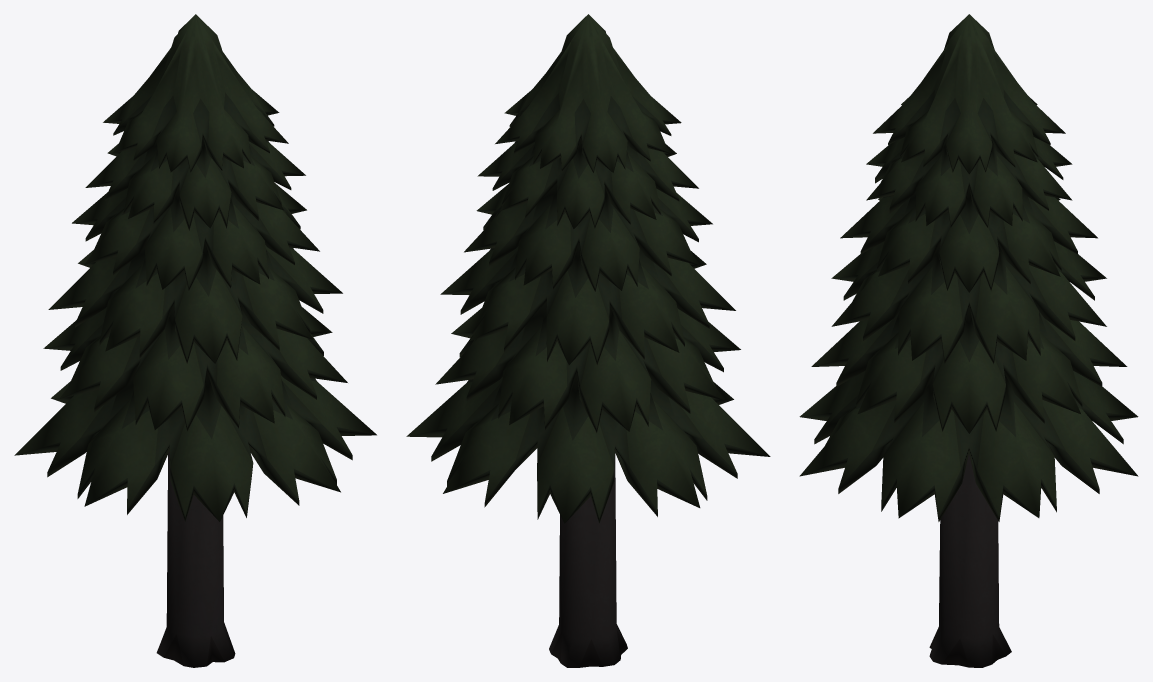
Rendered from Simple_Trees_L.fbx.
3 views of the same model, side by side, from view 1: azimuth 30°, elevation 25°; view 2: azimuth 150°, elevation 25°; view 3: azimuth 270°, elevation 25° (orthographic).
Parts seen in each view (by area): view 1: Simple_Trees_L; view 2: Simple_Trees_L; view 3: Simple_Trees_L.
Boxes of the visible parts, x1=… form: Simple_Trees_L: x1=14, y1=14, x2=376, y2=667; Simple_Trees_L: x1=406, y1=14, x2=770, y2=667; Simple_Trees_L: x1=799, y1=14, x2=1138, y2=667.
Size of the model in its own units: 1.32 by 2.74 by 1.32.
1 material, 1 textured.
